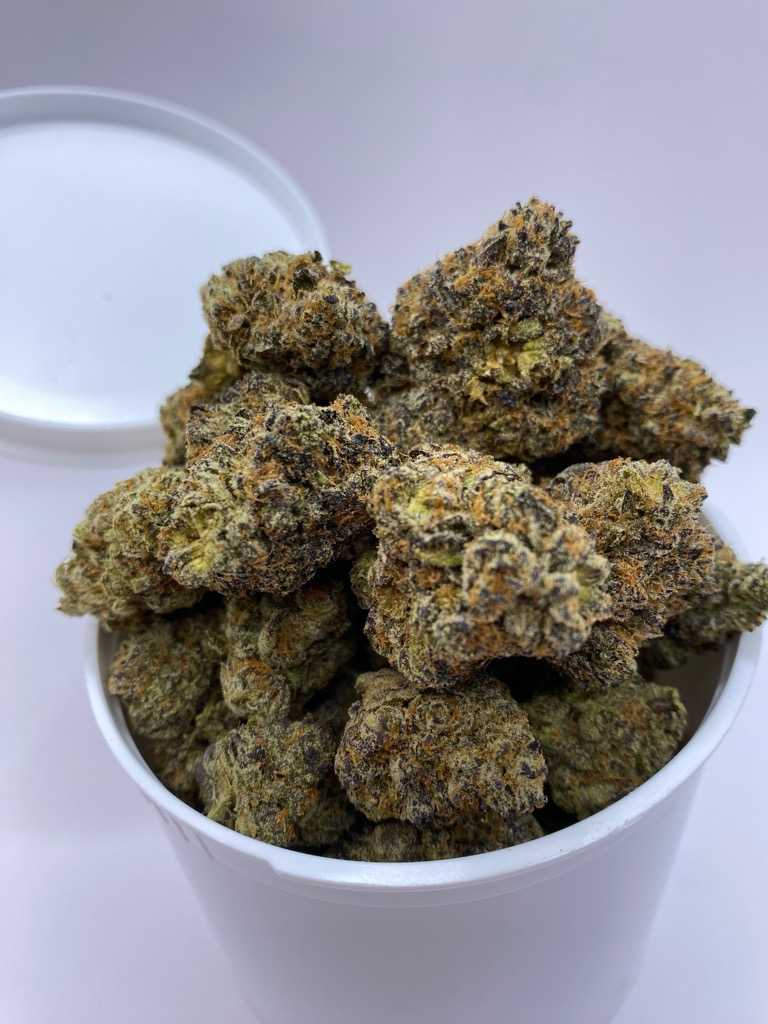Bud: (407, 212, 748, 442), (358, 435, 603, 667), (564, 456, 765, 649), (143, 420, 372, 578), (327, 682, 556, 821), (201, 268, 398, 403), (211, 580, 350, 725), (50, 485, 200, 612), (189, 732, 334, 848), (557, 673, 682, 794), (103, 628, 217, 740)
